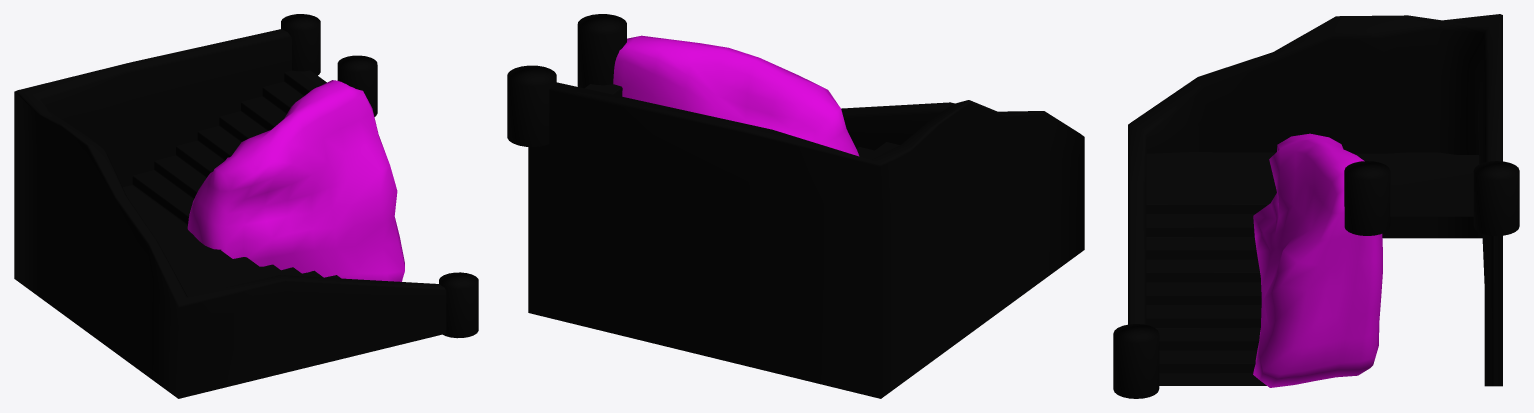
Rendered from stairs.fbx.
The picture shows the model from 3 angles, left to right: view 1: azimuth 30°, elevation 25°; view 2: azimuth 150°, elevation 25°; view 3: azimuth 270°, elevation 25°; orthographic projection. The views are drawn at different scales.
Visible parts, largest first — view 1: polySurface6; view 2: polySurface6; view 3: polySurface6.
Part boxes in pixels (x1=…): polySurface6: x1=14, y1=14, x2=478, y2=398; polySurface6: x1=507, y1=14, x2=1084, y2=398; polySurface6: x1=1113, y1=14, x2=1519, y2=398.
Size of the model in its own units: 10.62 by 6.52 by 10.87.
